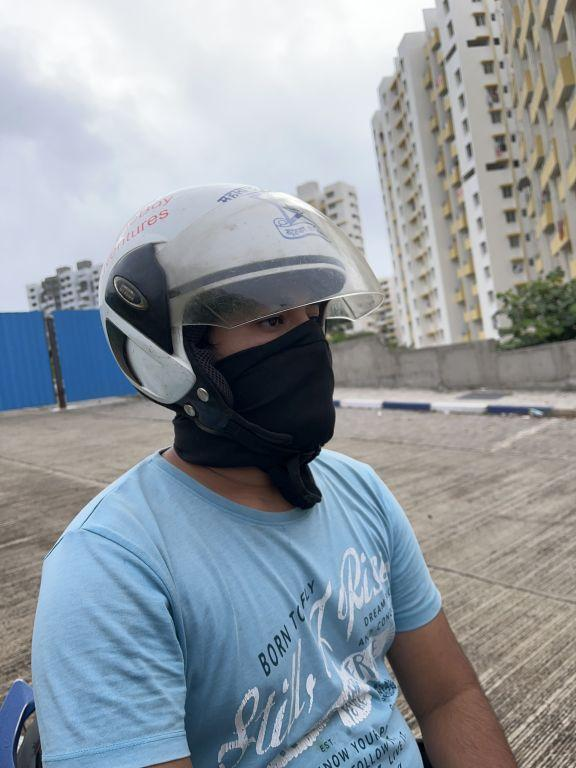helmet: (92, 174, 385, 451)
